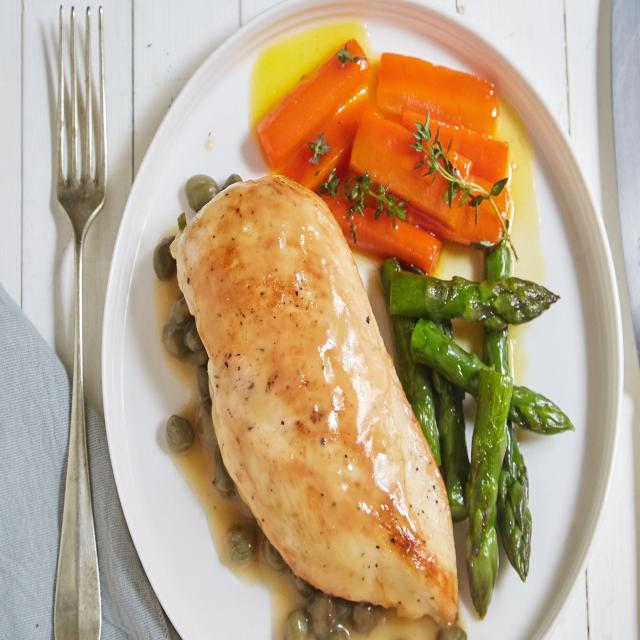pollo: (166, 157, 462, 630)
